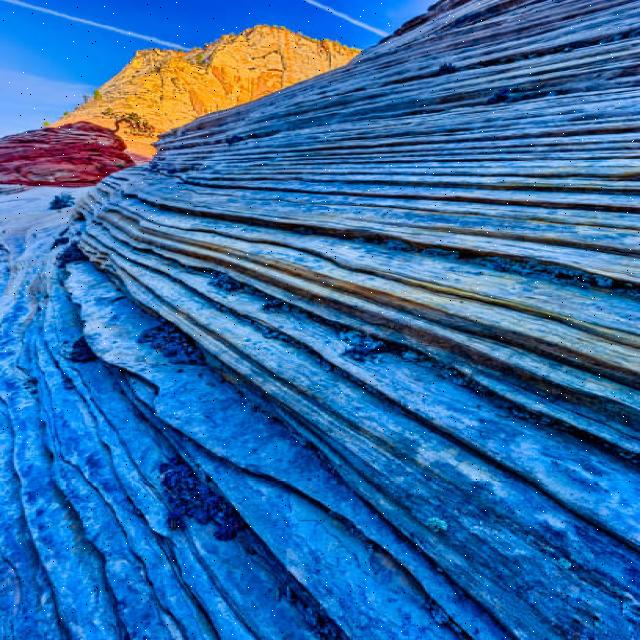Sedimentary: (4, 226, 640, 637)
